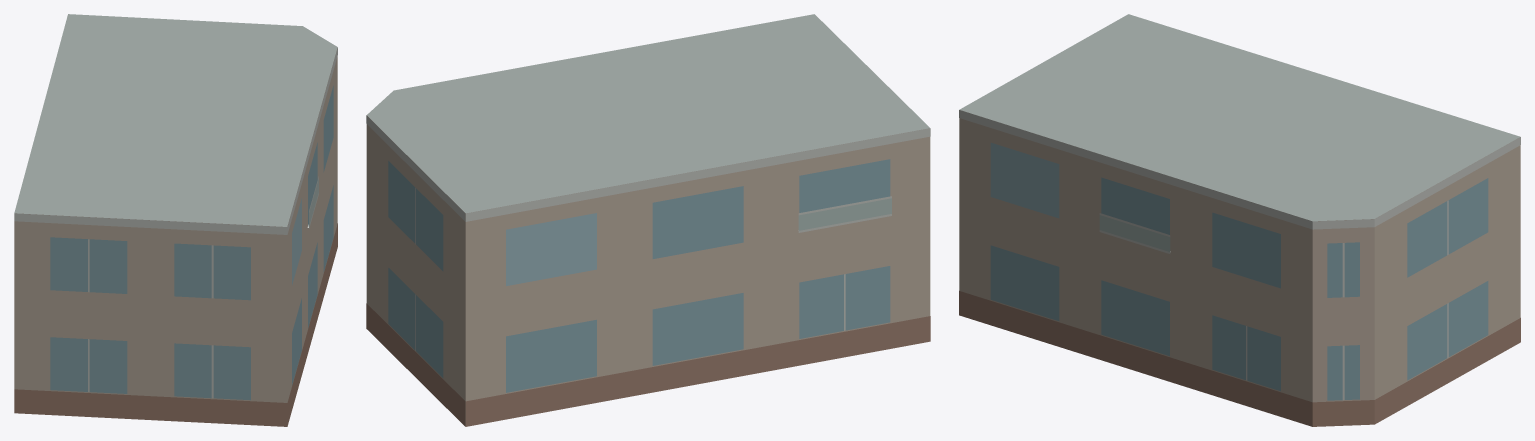
File: survey-upis-32489912.glb
3 views of the same model, side by side, from view 1: azimuth 30°, elevation 25°; view 2: azimuth 150°, elevation 25°; view 3: azimuth 270°, elevation 25° (orthographic). The views are drawn at different scales.
Visible parts, largest first — view 1: survey-upis-32489912.tmp; view 2: survey-upis-32489912.tmp; view 3: survey-upis-32489912.tmp.
Boxes of the visible parts, x1,y1,x2,y2 form: survey-upis-32489912.tmp: (14,14,337,426); survey-upis-32489912.tmp: (366,14,930,426); survey-upis-32489912.tmp: (959,14,1520,426).
Size of the model in its own units: 13.2 by 6.1 by 15.11.
